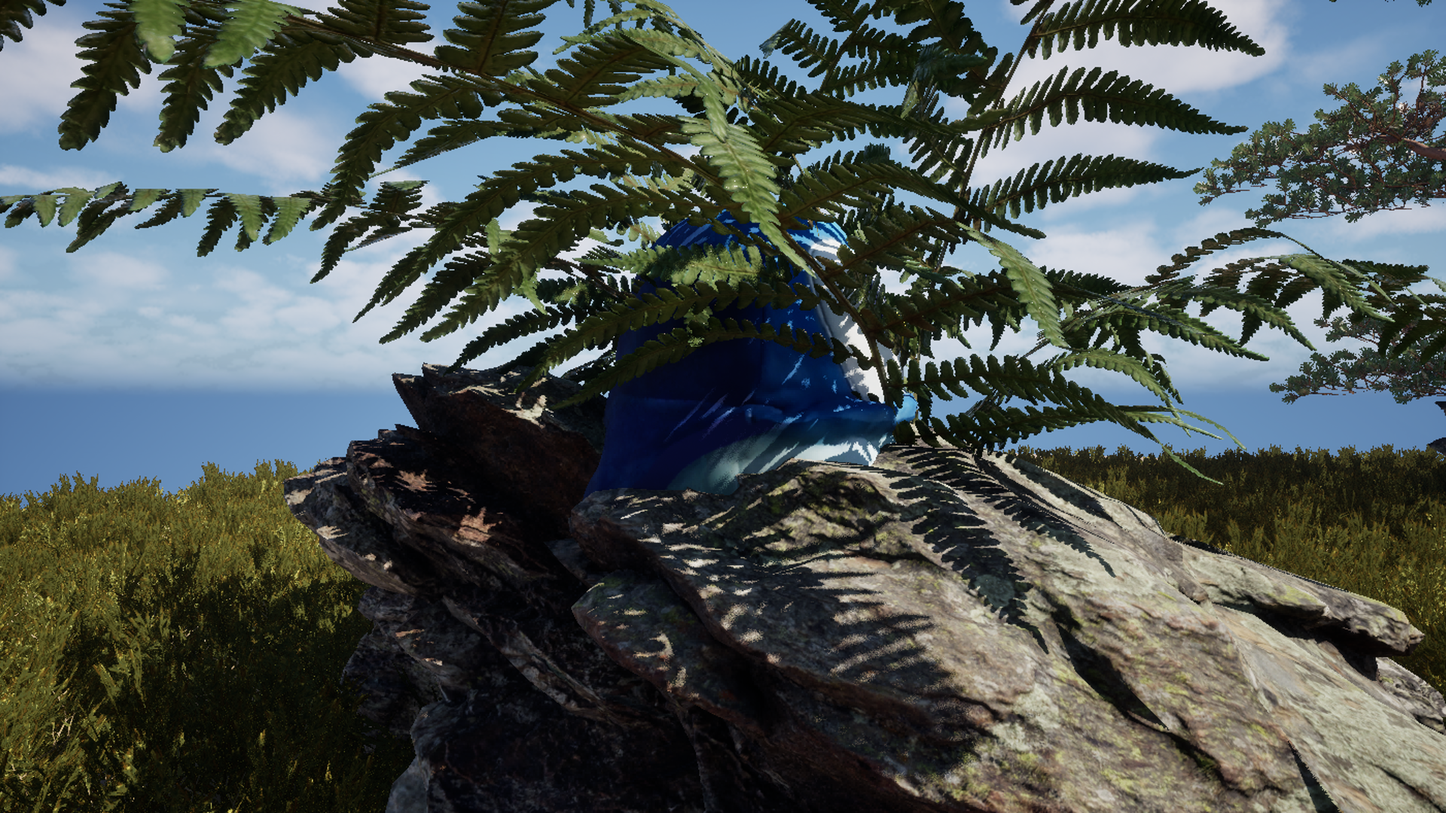Piplup: (328, 31, 1021, 782)
